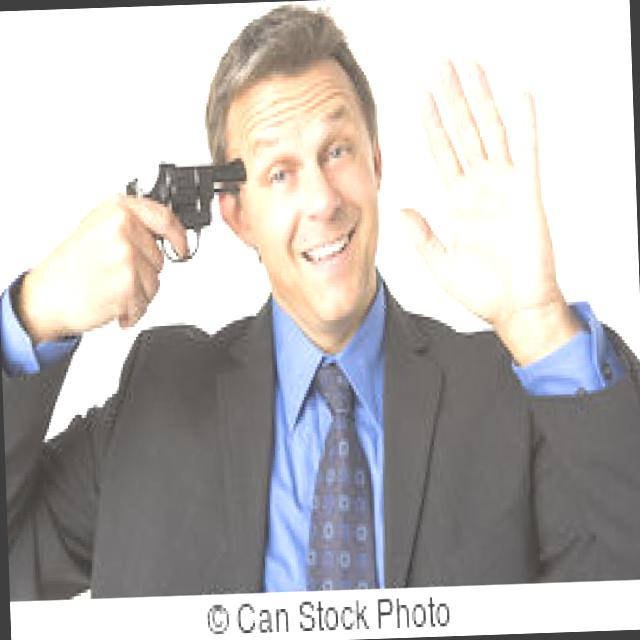handgun: (122, 151, 250, 267)
